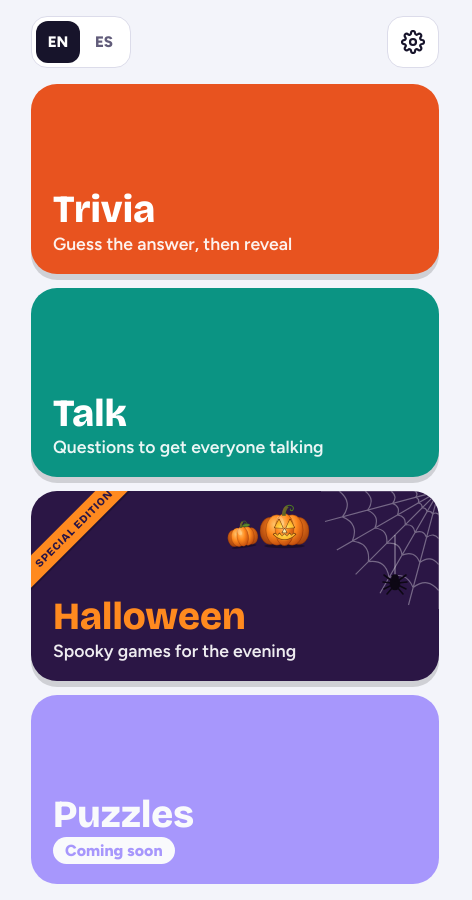
Test: Trivia › deals a card chosen by the random source, showing its topic and difficulty
Click the button "Trivia Guess the answer, then reveal" at x=104, y=209, box left=31, top=84, right=439, bottom=274
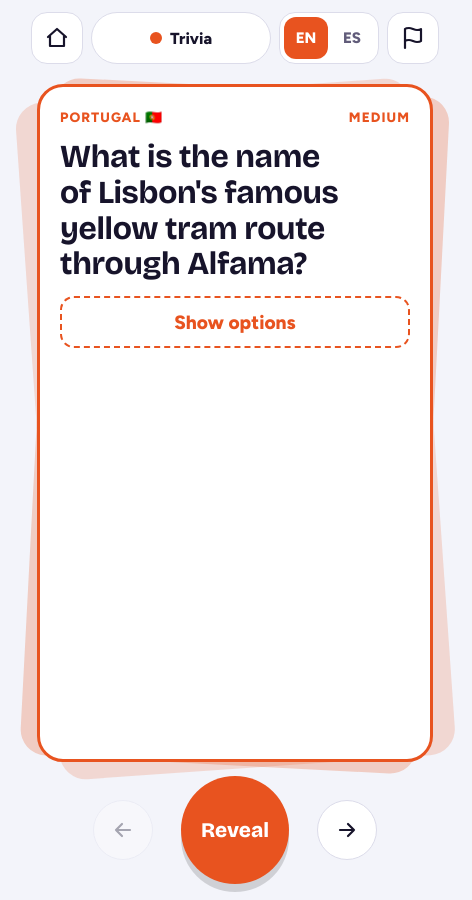
Check: the text "What is the name of Lisbon's famous yellow tram route through Alfama?" is shown, box left=60, top=137, right=338, bottom=284
Check: the text "Portugal 🇵🇹" is shown, box left=60, top=109, right=163, bottom=125
Check: the text "Medium" is shown, box left=349, top=109, right=410, bottom=125
